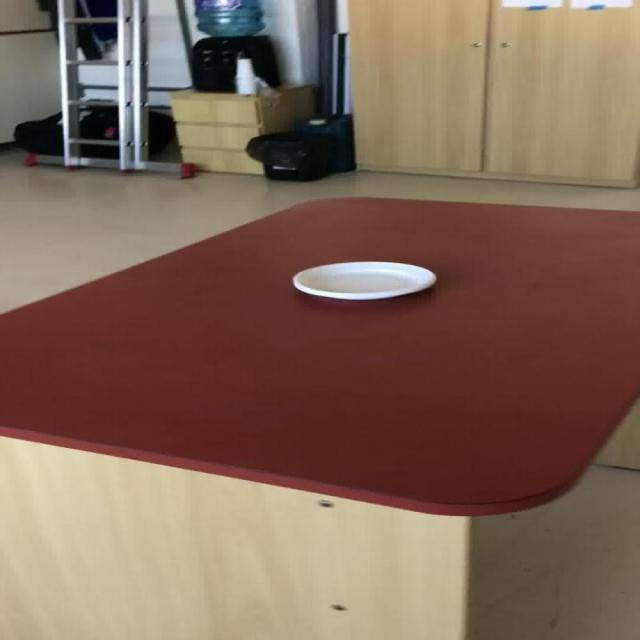Plate: (291, 260, 436, 301)
